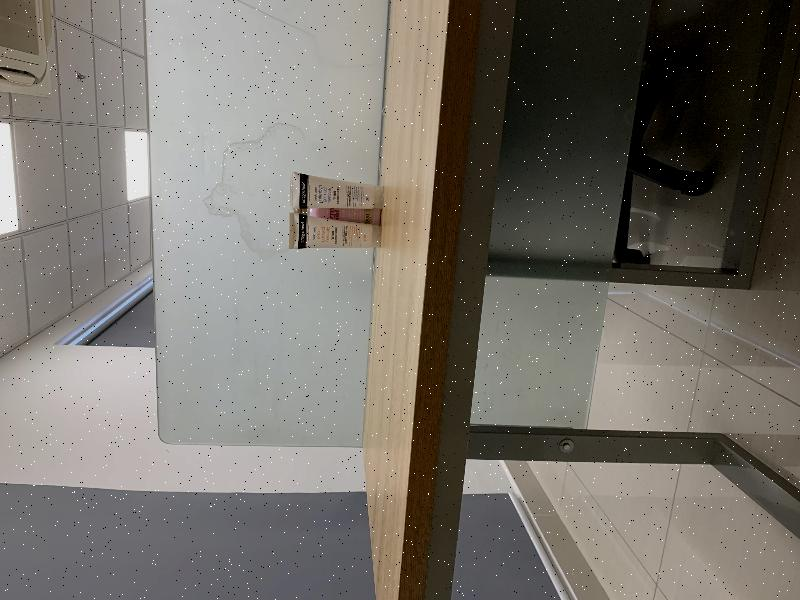AcneFoamingCleanser: (289, 212, 382, 250)
HydratingFoamingCleanser: (290, 171, 384, 210)
